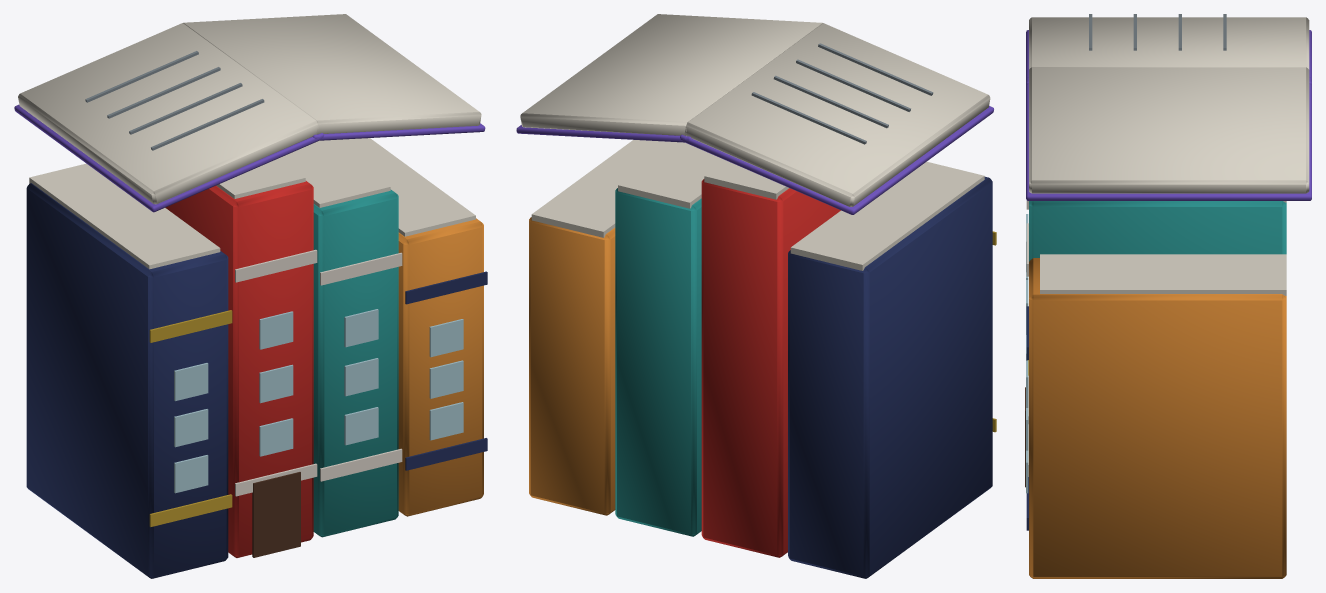
3 views of the same model, side by side, from view 1: azimuth 30°, elevation 25°; view 2: azimuth 150°, elevation 25°; view 3: azimuth 270°, elevation 25° (orthographic). The views are drawn at different scales.
Parts seen in each view (by area): view 1: lm_04; view 2: lm_04; view 3: lm_04.
Boxes of the visible parts, x1=… form: lm_04: x1=14, y1=14, x2=487, y2=578; lm_04: x1=516, y1=14, x2=996, y2=578; lm_04: x1=1025, y1=14, x2=1311, y2=578.
Size of the model in its own units: 0.712 by 0.8589 by 0.512.
